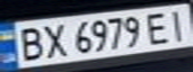6: (69, 17, 93, 55)
7: (106, 15, 127, 51)
9: (121, 12, 148, 48), (90, 16, 112, 53)
B: (12, 24, 48, 63)
E: (142, 9, 175, 45)
I: (163, 6, 193, 42)
X: (36, 20, 69, 60)
